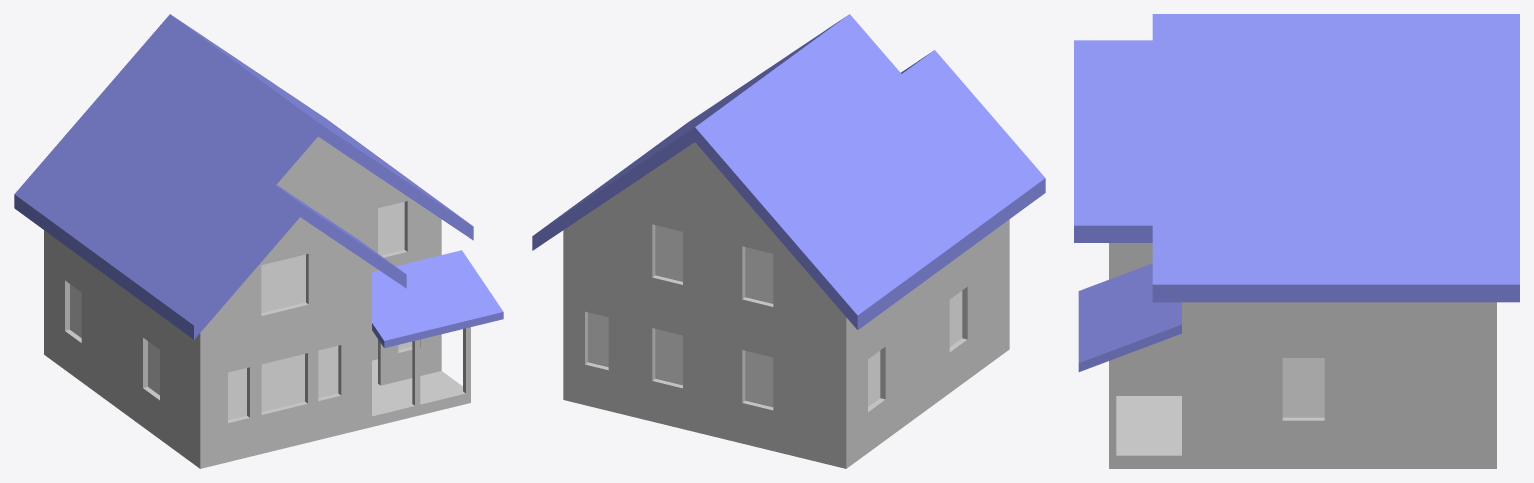
File: class1.gltf
3 renders of one model, left to right at view 1: azimuth 30°, elevation 25°; view 2: azimuth 150°, elevation 25°; view 3: azimuth 270°, elevation 25°, orthographic. The views are drawn at different scales.
Parts seen in each view (by area): view 1: Box019, etag1, Plane.007; view 2: etag1, Box019, Plane.007; view 3: Box019, etag1, Plane.007.
Part boxes in pixels (x1,y1,x2,y2): Box019: (14,14,503,348); etag1: (44,136,470,468); Plane.007: (70,202,412,420); etag1: (563,142,1009,468); Box019: (532,14,1045,329); Plane.007: (588,225,962,407); Box019: (1074,14,1519,371); etag1: (1109,243,1496,468); Plane.007: (1282,358,1324,417).
Bounding box in the file's own units: 0.9505 × 0.8775 × 0.9505.
